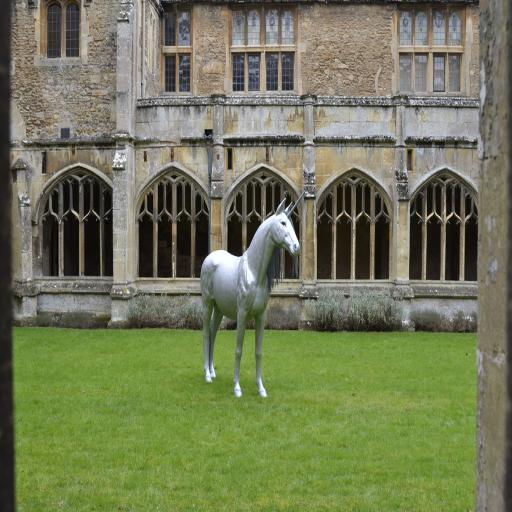Horse: (199, 190, 305, 400)
